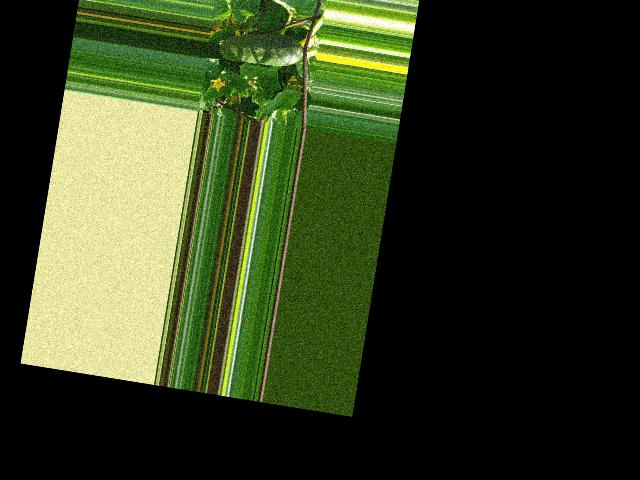cucumber: (217, 23, 305, 71)
